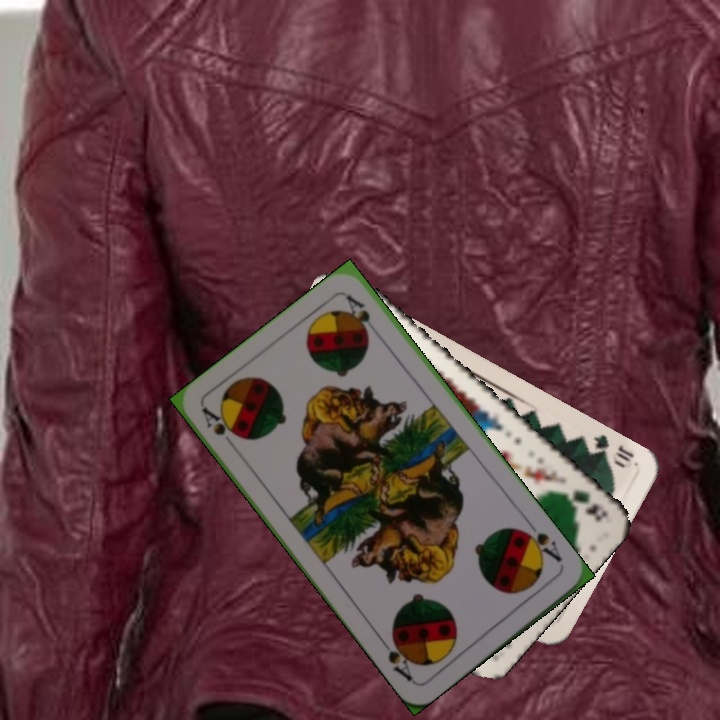G10: (589, 430, 637, 465)
GK: (555, 486, 610, 525)
SA: (516, 518, 565, 565), (198, 403, 243, 454)
